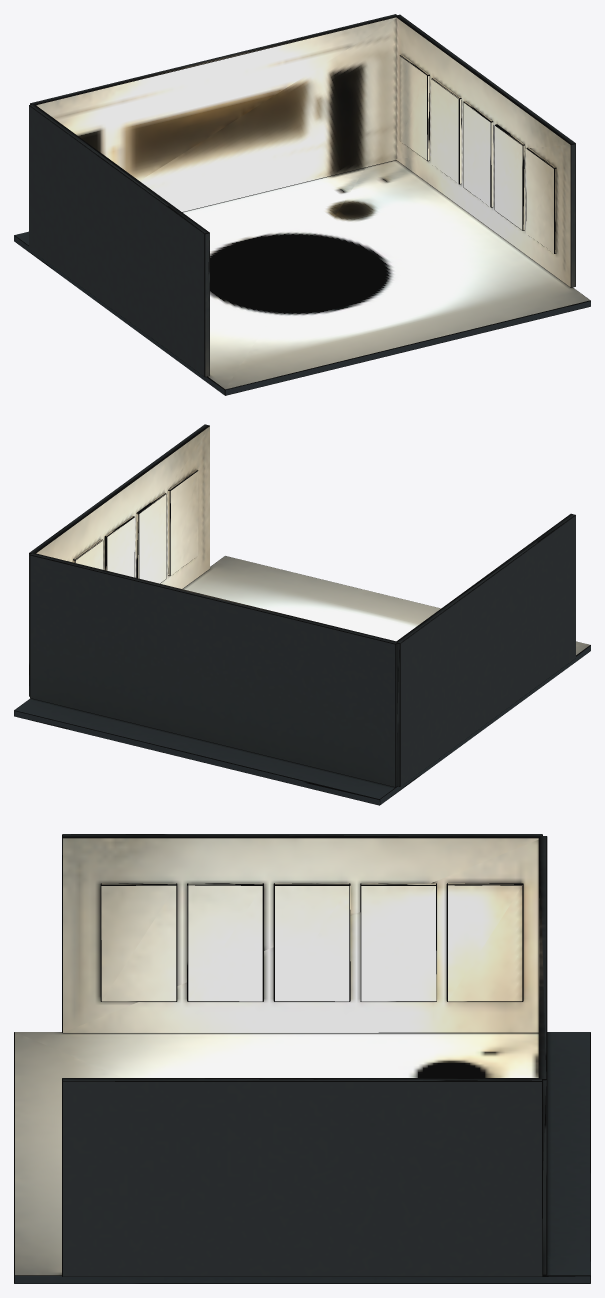
Rendered from room-baked.glb.
3 views of the same model, one above another, from view 1: azimuth 30°, elevation 25°; view 2: azimuth 150°, elevation 25°; view 3: azimuth 270°, elevation 25° (orthographic). The views are drawn at different scales.
Visible parts, largest first — view 1: Opener_BakedArchitecture; view 2: Opener_BakedArchitecture; view 3: Opener_BakedArchitecture.
Part boxes in pixels (x1=…): Opener_BakedArchitecture: x1=14, y1=14, x2=590, y2=395; Opener_BakedArchitecture: x1=14, y1=424, x2=590, y2=805; Opener_BakedArchitecture: x1=14, y1=834, x2=590, y2=1283.
Bounding box in the file's own units: 12.18 × 4.7 × 12.
Materials: 1 (1 with a texture image).
